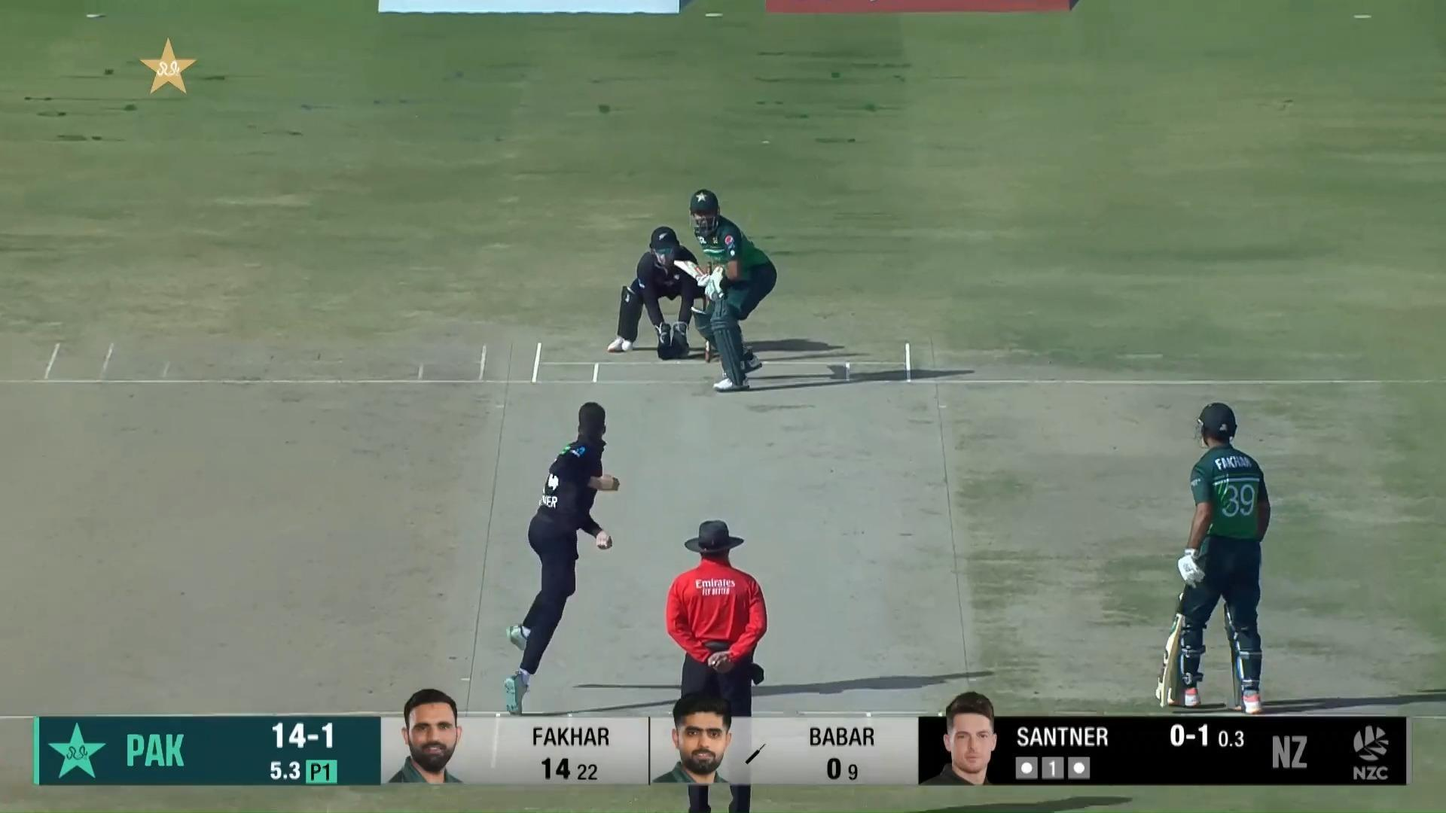BM 1: (673, 190, 780, 390)
BO: (498, 397, 623, 719)
